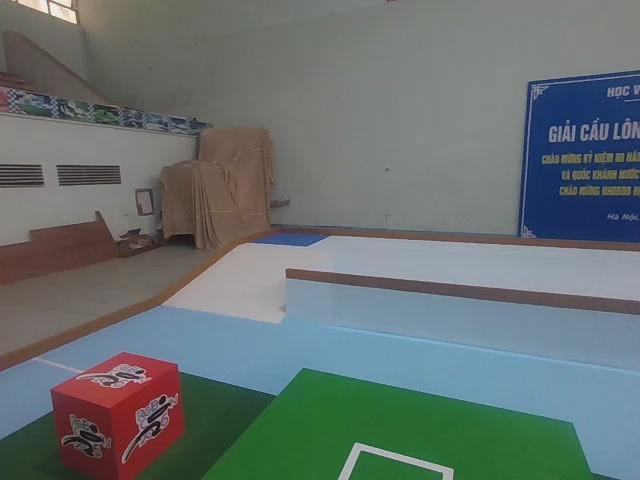R1: (47, 347, 190, 480)
